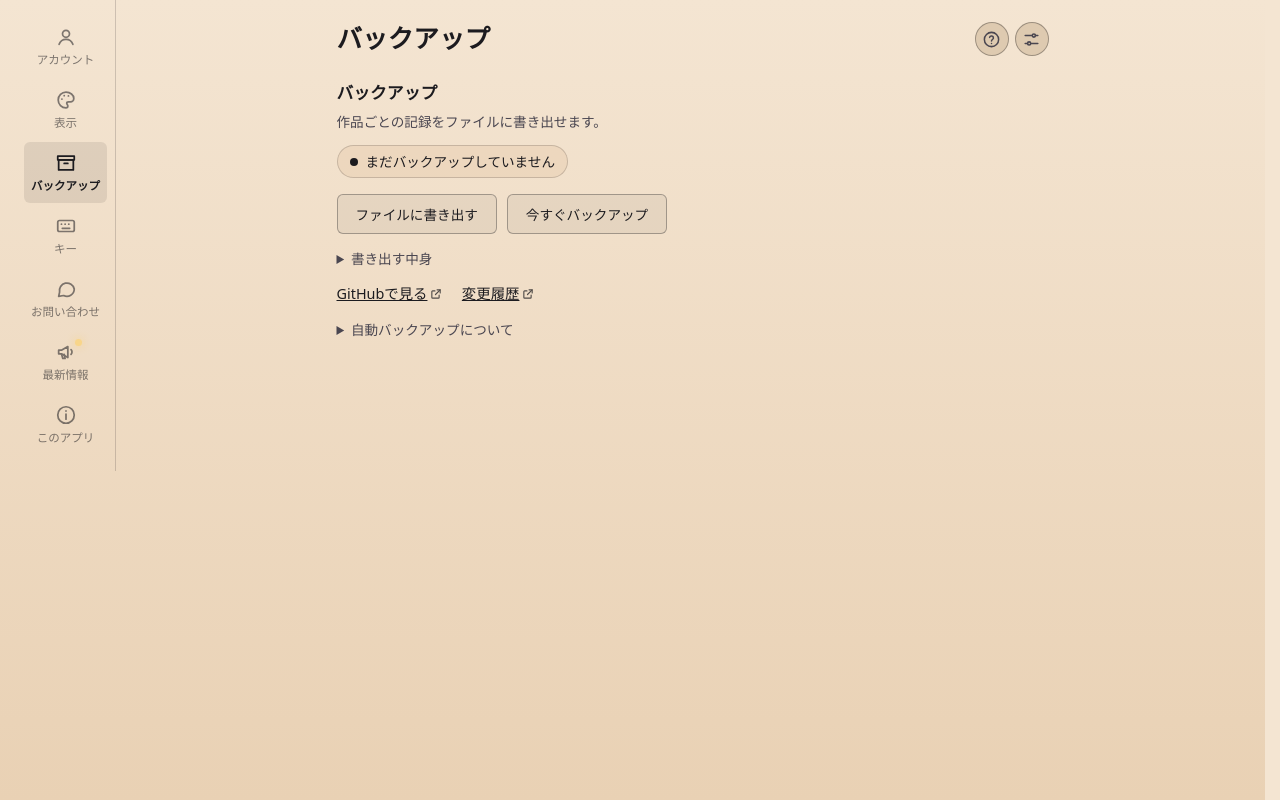
Test: Settings backup block › shows the failure from the stored error and enables the button again
The image size is (1280, 800).
Click the button "今すぐバックアップ". click: (587, 214)
box: x1=507 y1=194 x2=667 y2=234
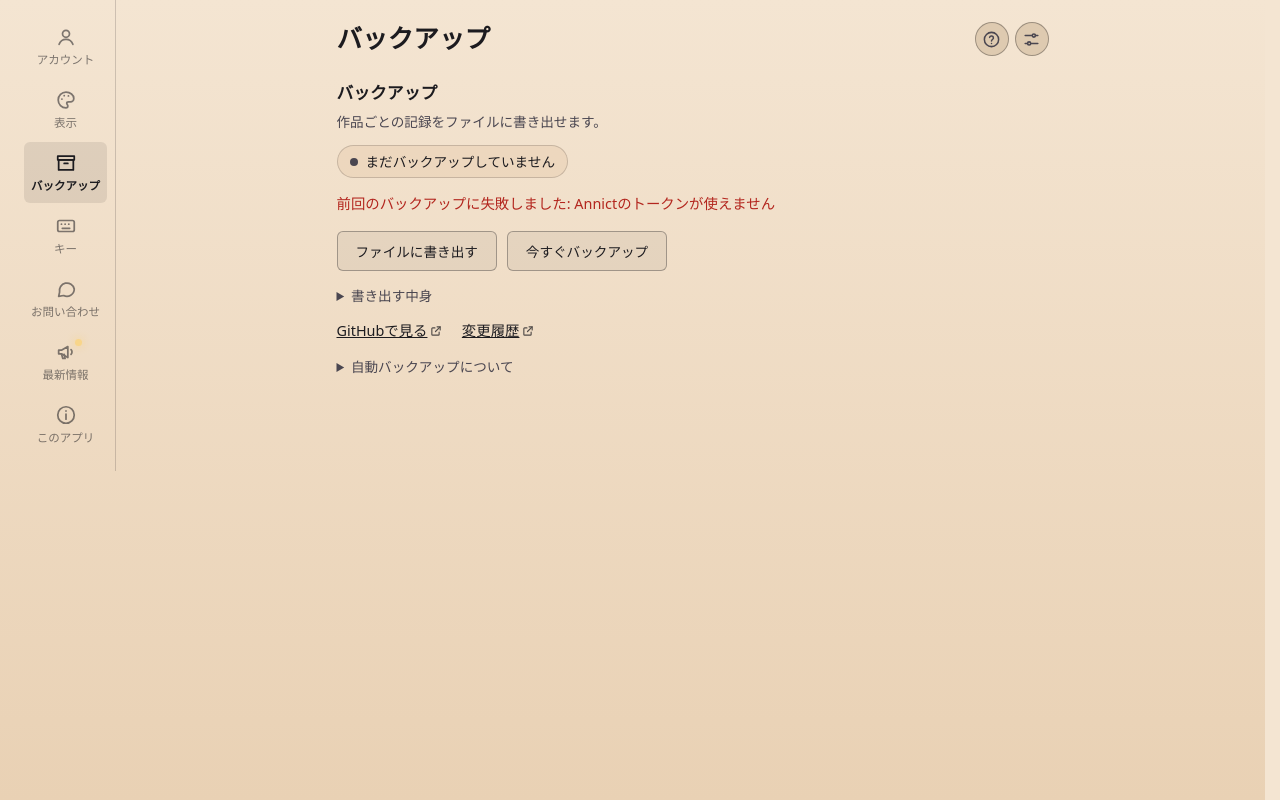
Expected: the button "今すぐバックアップ" is enabled, x1=507 y1=231 x2=667 y2=271
Expected: the text "前回のバックアップに失敗しました: Annictのトークンが使えません" is shown, x1=336 y1=194 x2=775 y2=213
